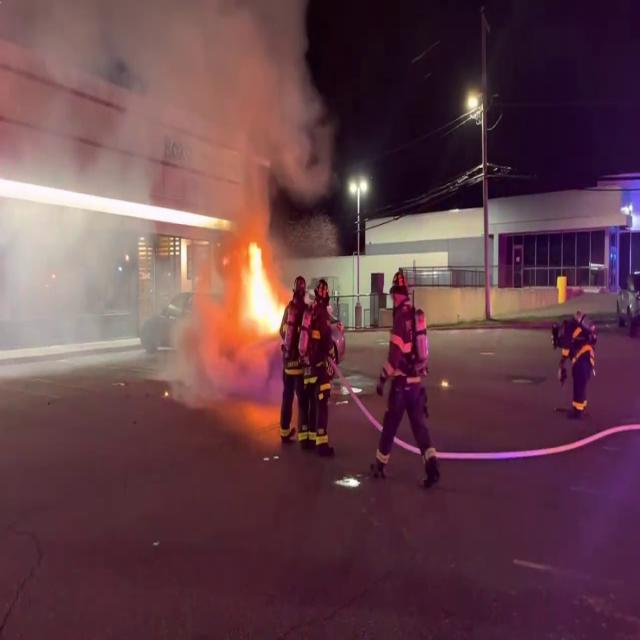Fire: (234, 233, 289, 343)
Smoke: (0, 0, 342, 220)
